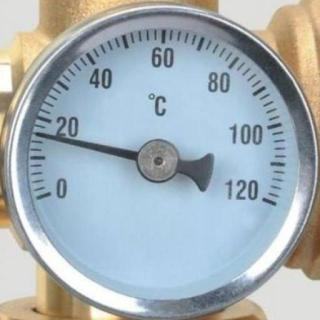gauge: (0, 0, 320, 320), (136, 137, 180, 183), (248, 182, 282, 220), (34, 182, 62, 208), (31, 126, 49, 142)
